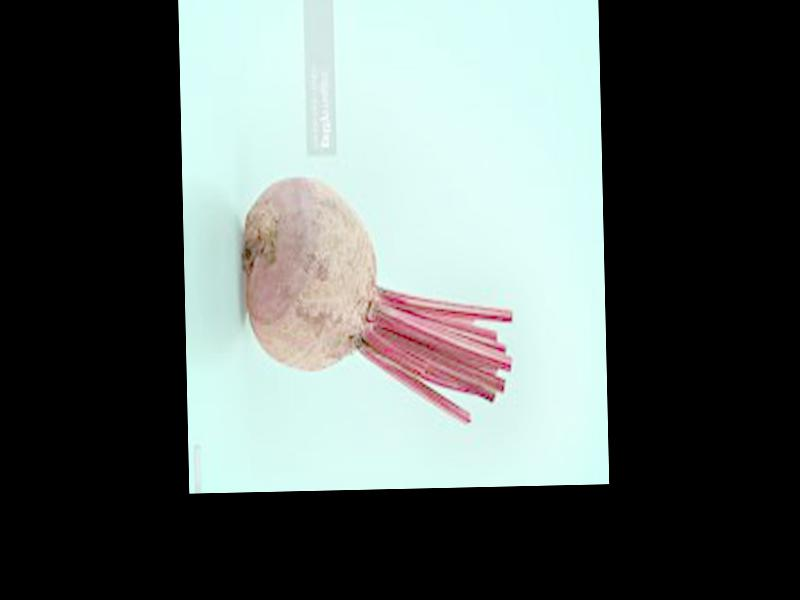Beet: (239, 172, 515, 427)
